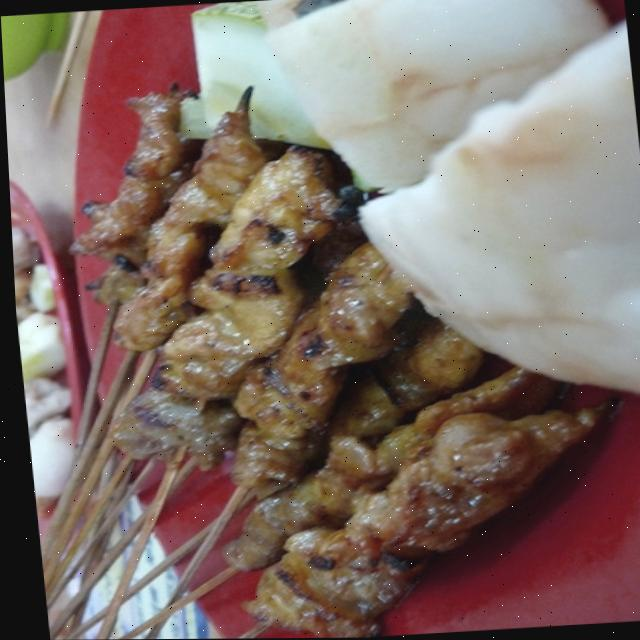牛肉菜式: (19, 0, 640, 640)
